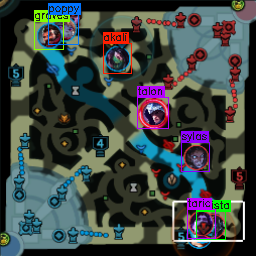akali: (103, 45, 129, 70)
graves: (36, 22, 61, 47)
kalista: (201, 213, 226, 239)
missfortune: (186, 224, 210, 249)
poppy: (52, 16, 76, 41)
sylas: (182, 144, 208, 169)
talon: (140, 99, 166, 127)
taric: (187, 211, 212, 235)
